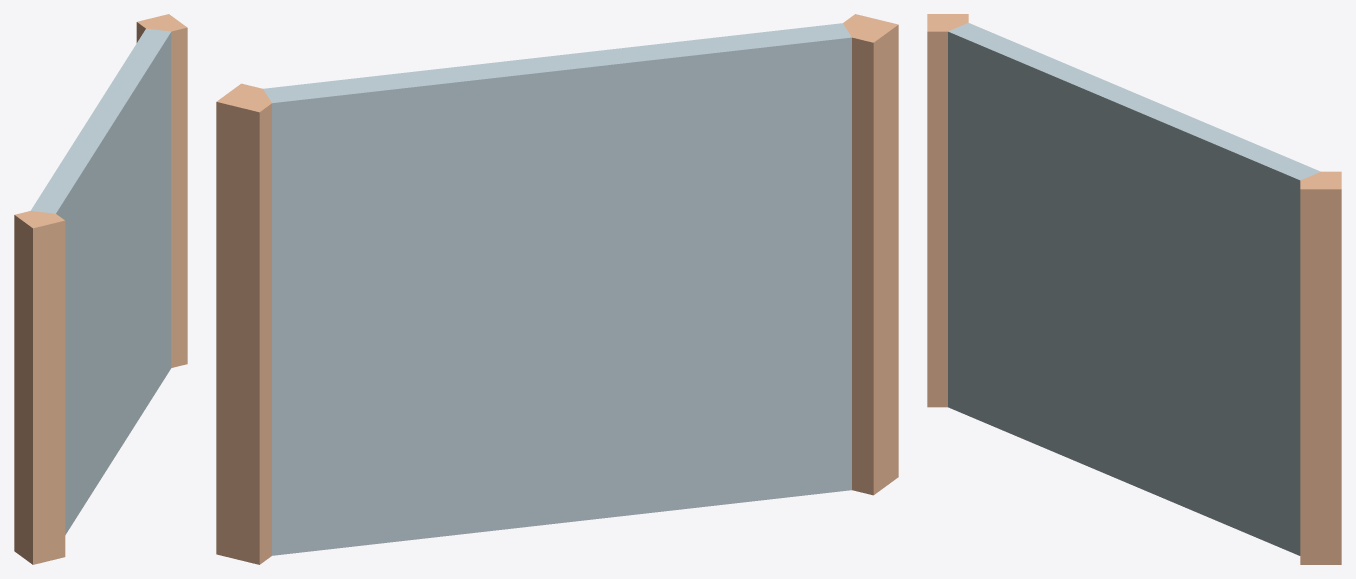
File: wallDiagonal.glb
The picture shows the model from 3 angles, left to right: view 1: azimuth 30°, elevation 25°; view 2: azimuth 150°, elevation 25°; view 3: azimuth 270°, elevation 25°; orthographic projection. The views are drawn at different scales.
Visible parts, largest first — view 1: wallDiagonal; view 2: wallDiagonal; view 3: wallDiagonal.
Boxes of the visible parts, left/top/right/bottom form: wallDiagonal: left=14, top=14, right=187, bottom=564; wallDiagonal: left=216, top=14, right=898, bottom=564; wallDiagonal: left=927, top=14, right=1341, bottom=564.
Bounding box in the file's own units: 1 × 1 × 1.
